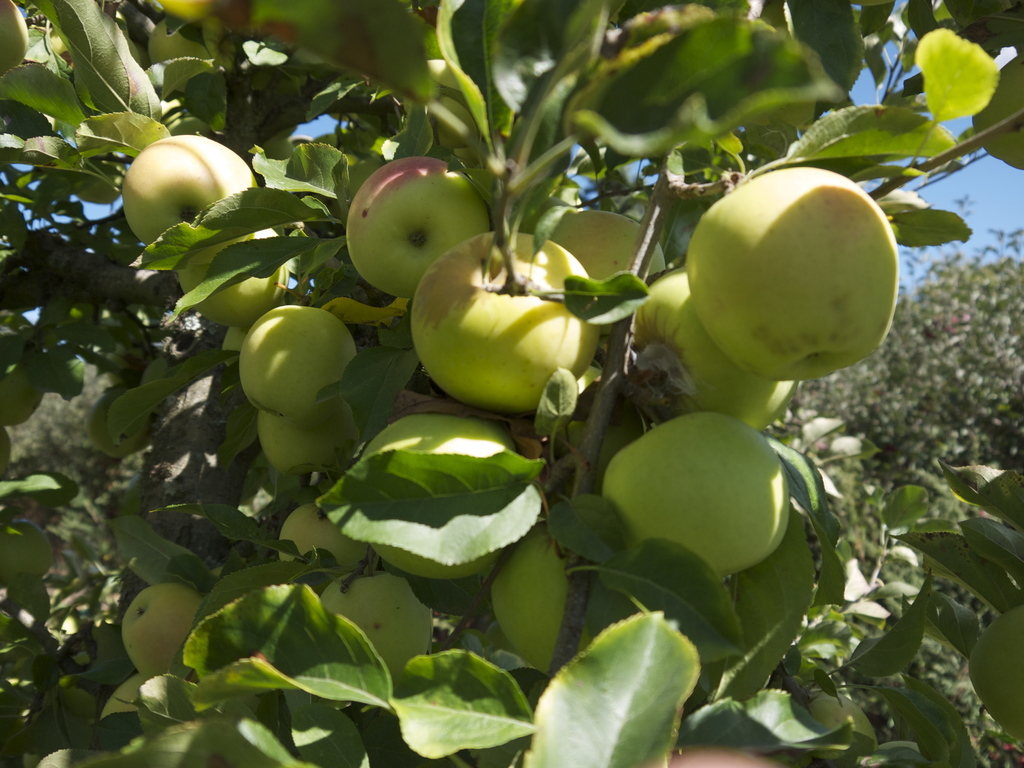Apple: (95, 129, 807, 719), (680, 163, 917, 380), (961, 601, 1023, 736), (0, 518, 58, 584), (144, 17, 210, 67), (0, 0, 30, 76)
